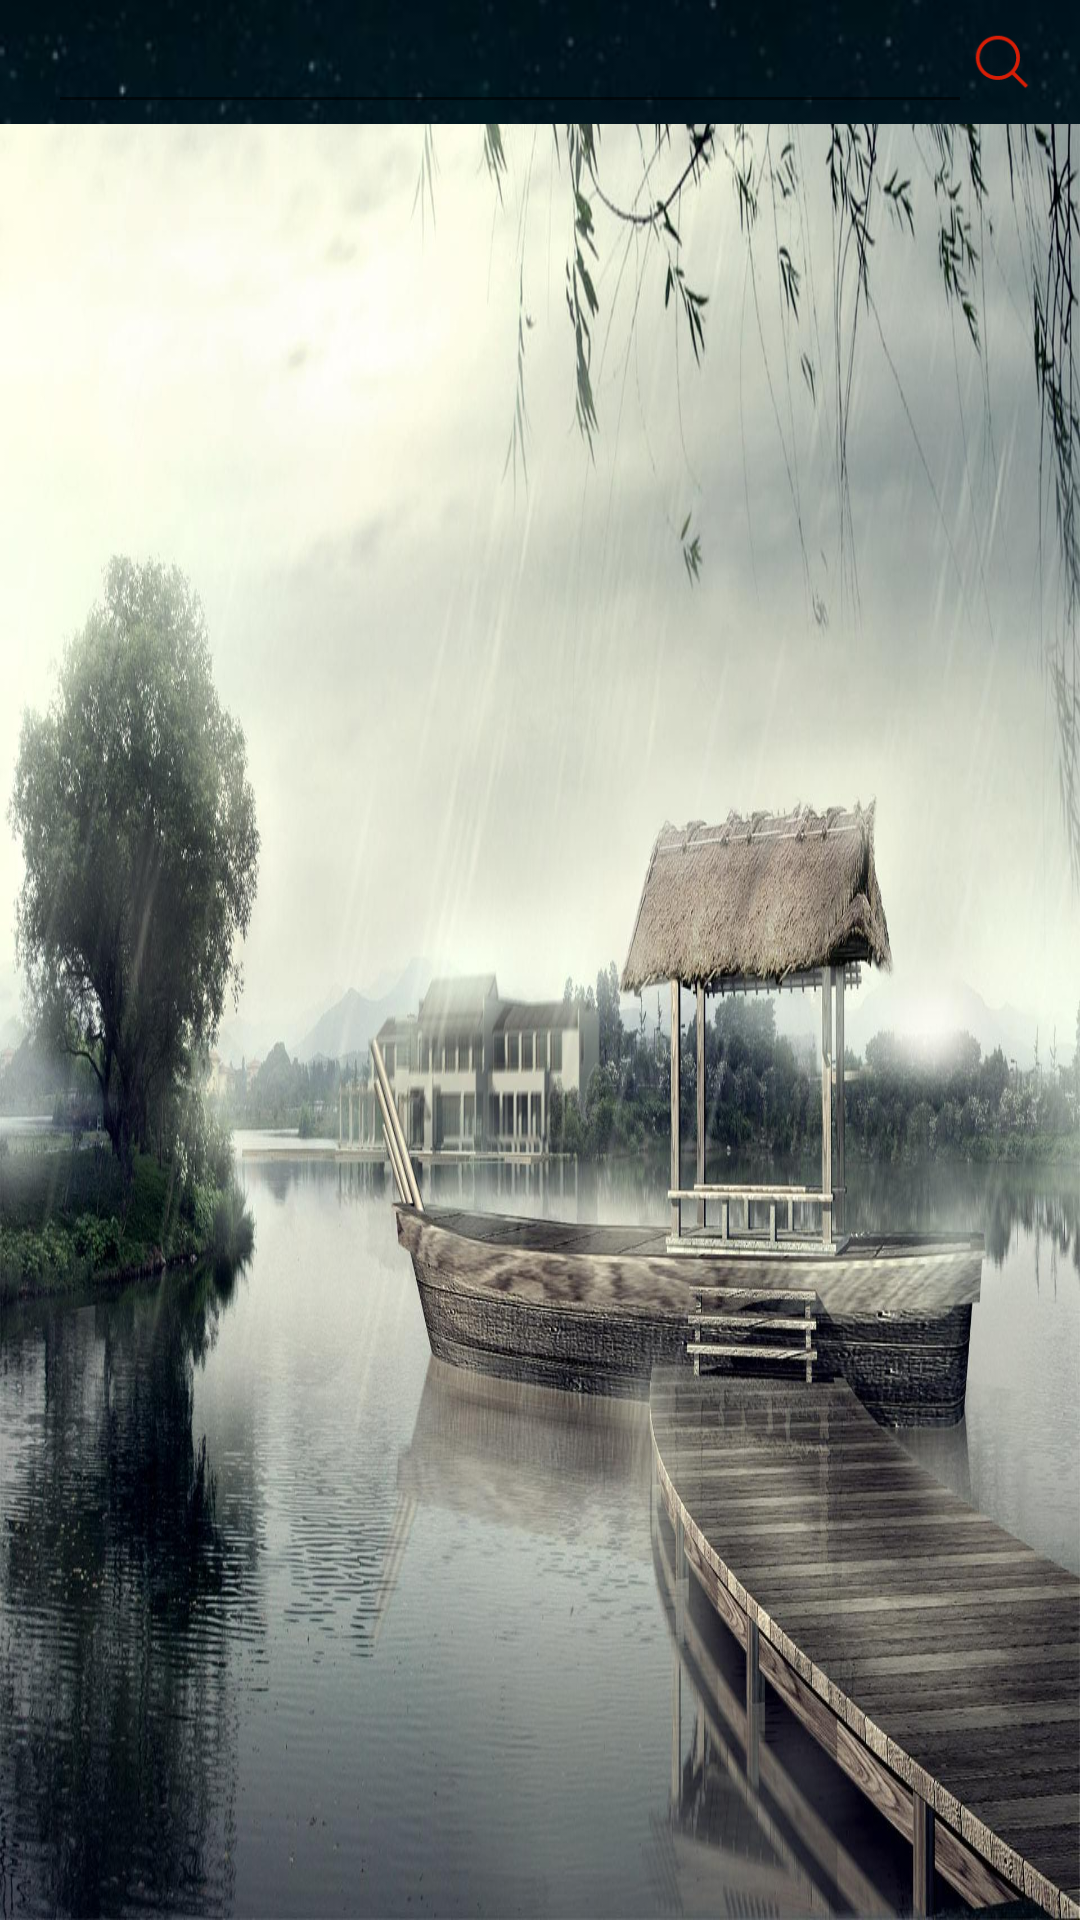

Named icons in this screenshot (1080 × 1920) and their centers, (x,y):
query: (1000,61)
